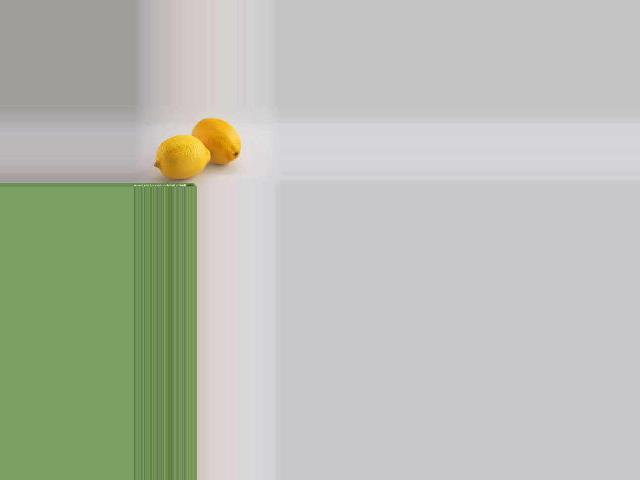lemon: (194, 116, 242, 160)
